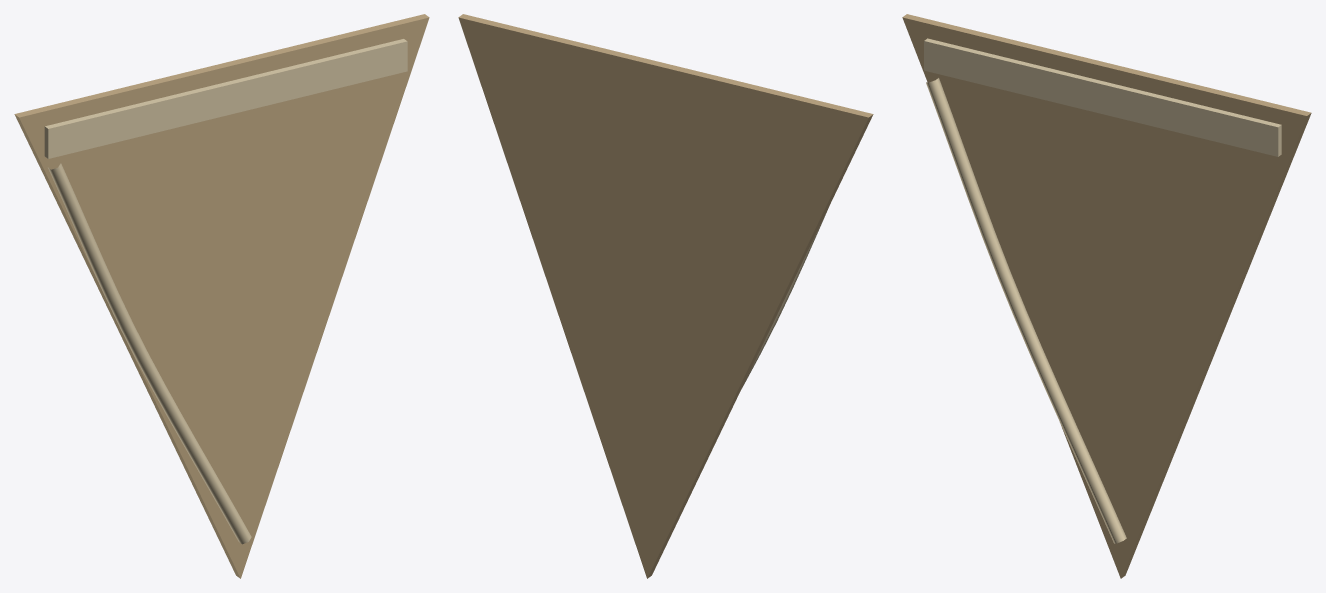
The model's file is mia-bunting.glb.
3 views of the same model, side by side, from view 1: azimuth 30°, elevation 25°; view 2: azimuth 150°, elevation 25°; view 3: azimuth 330°, elevation 25° (orthographic).
Visible parts, largest first — view 1: Body_canvas, Body_page-light; view 2: Body_canvas; view 3: Body_canvas, Body_page-light.
Boxes of the visible parts, x1,y1,x2,y2 form: Body_canvas: (14,14,429,578); Body_page-light: (44,39,407,544); Body_canvas: (458,14,873,578); Body_canvas: (902,14,1311,578); Body_page-light: (924,38,1281,543).
Size of the model in its own units: 0.2 by 0.24 by 0.009.
